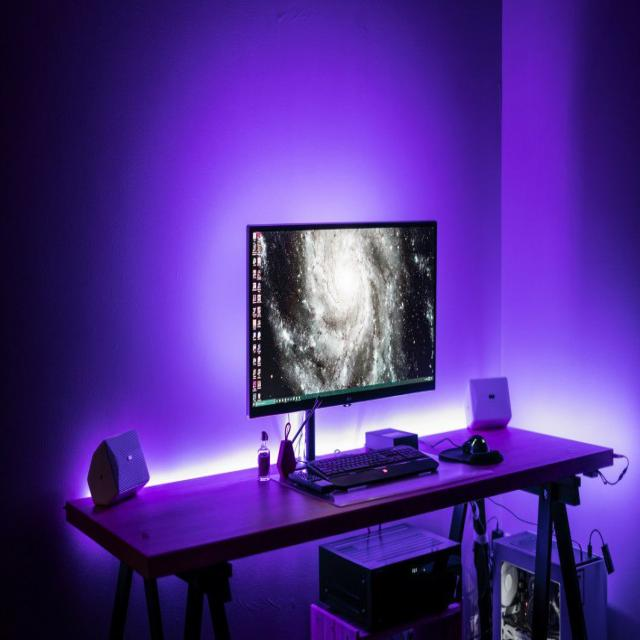computer: (231, 206, 448, 488)
desk: (138, 439, 610, 606)
